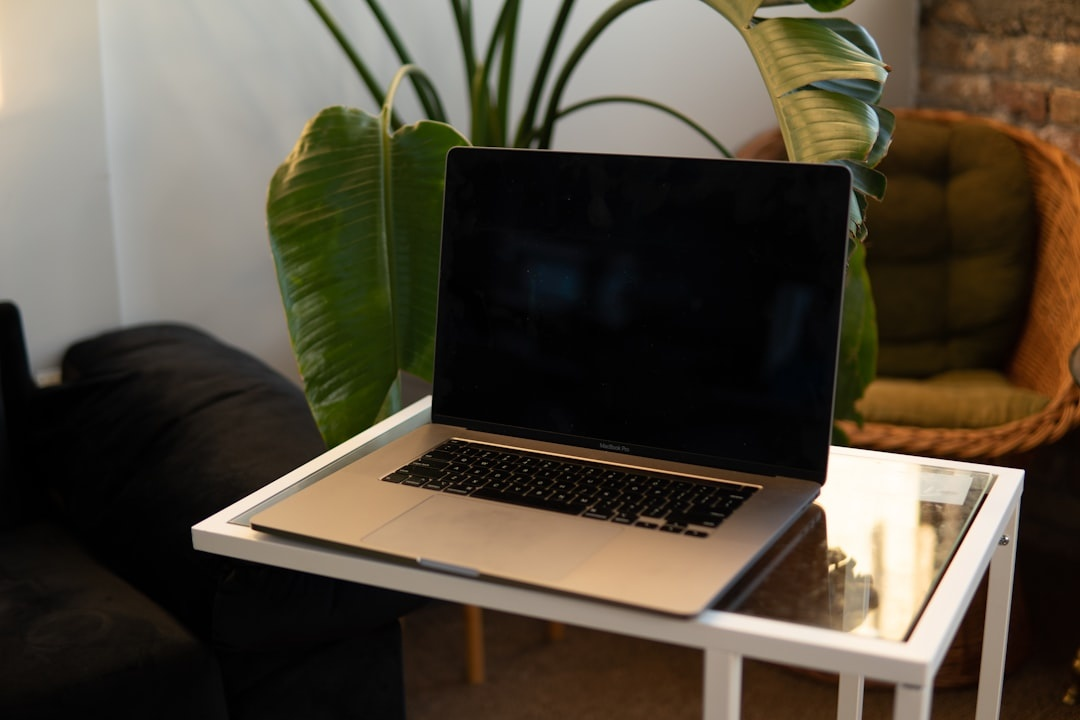laptop: (244, 127, 910, 627)
